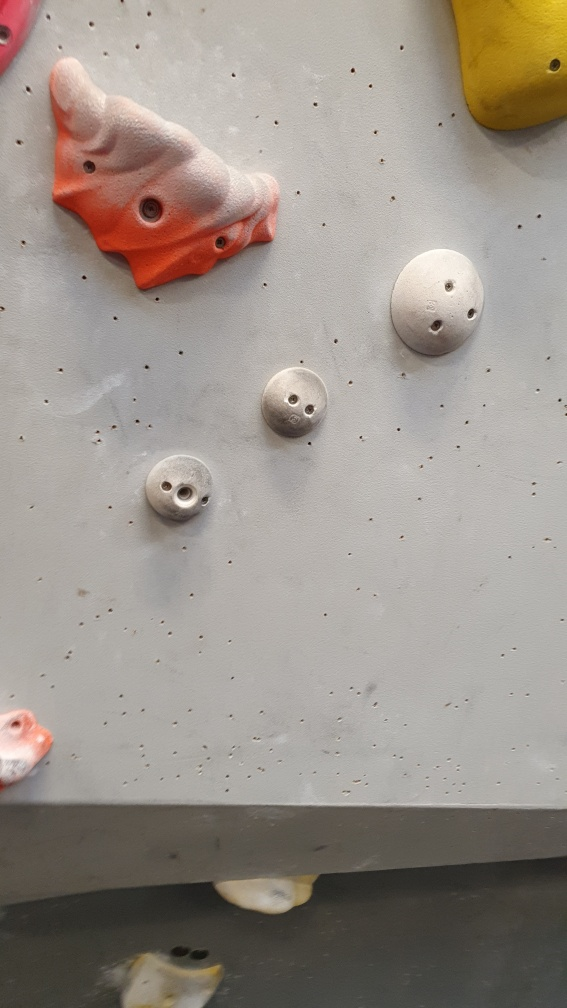Hand Start: (168, 939, 194, 966), (190, 943, 213, 965)
Jug: (42, 48, 286, 296)
Sloper: (385, 244, 488, 360), (259, 365, 330, 445), (144, 452, 216, 524)
